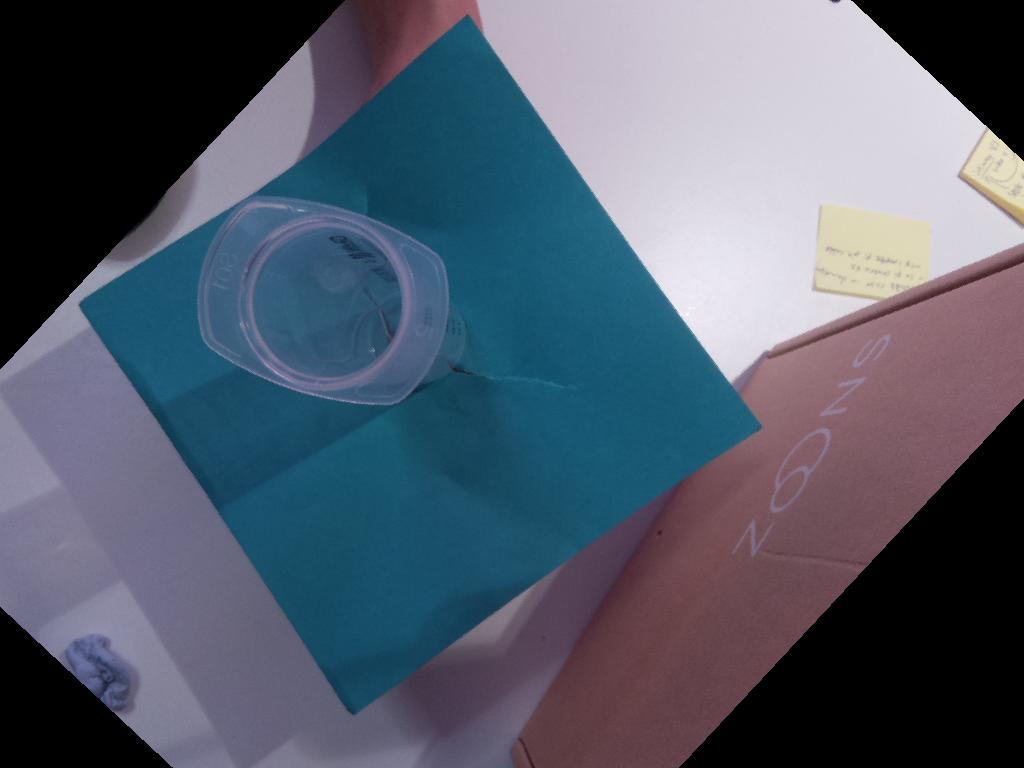clean: (194, 196, 453, 410)
